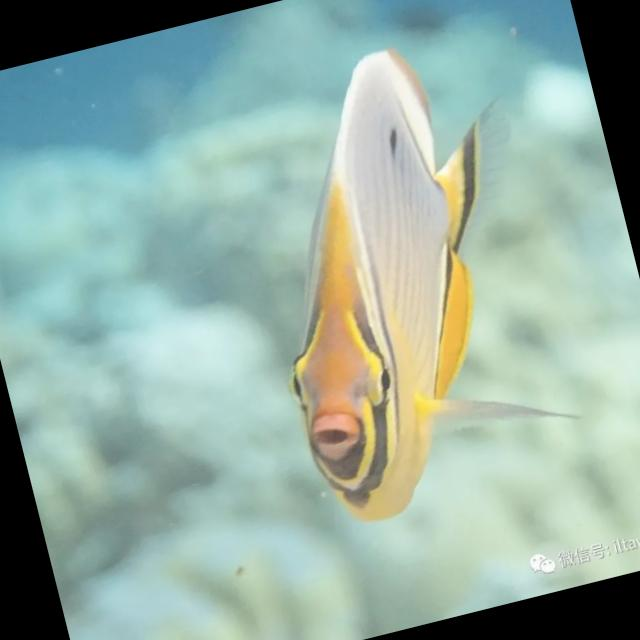ButterflyFish: (218, 24, 596, 537)
